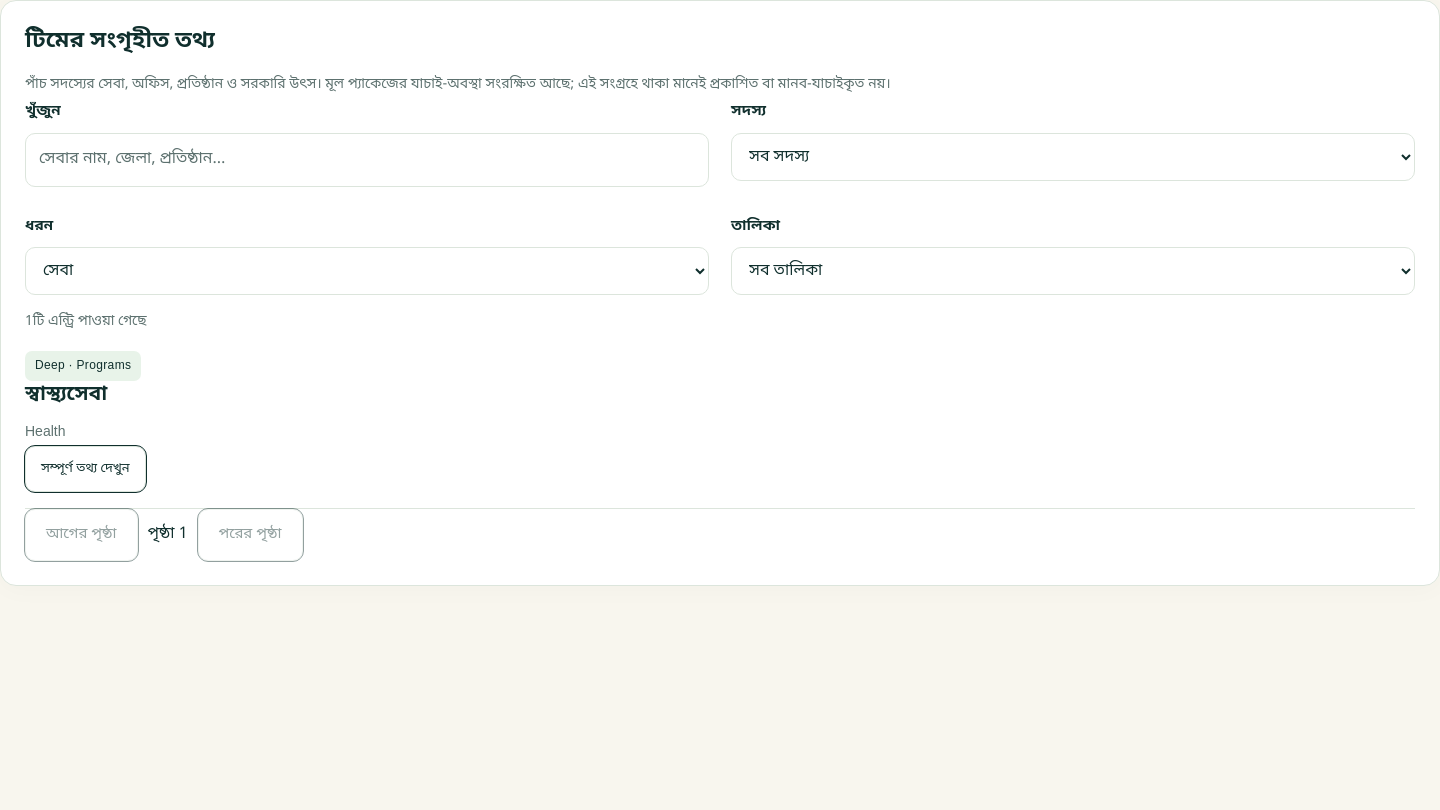
Test: searches uploaded research and preserves verification labels
The image size is (1440, 810).
Expected: the heading "স্বাস্থ্যসেবা" is shown, [25,382,107,408]
Step 1. Type "ঢাকা" into the field labelled "খুঁজুন" → (367, 160), box [25,133,709,187]
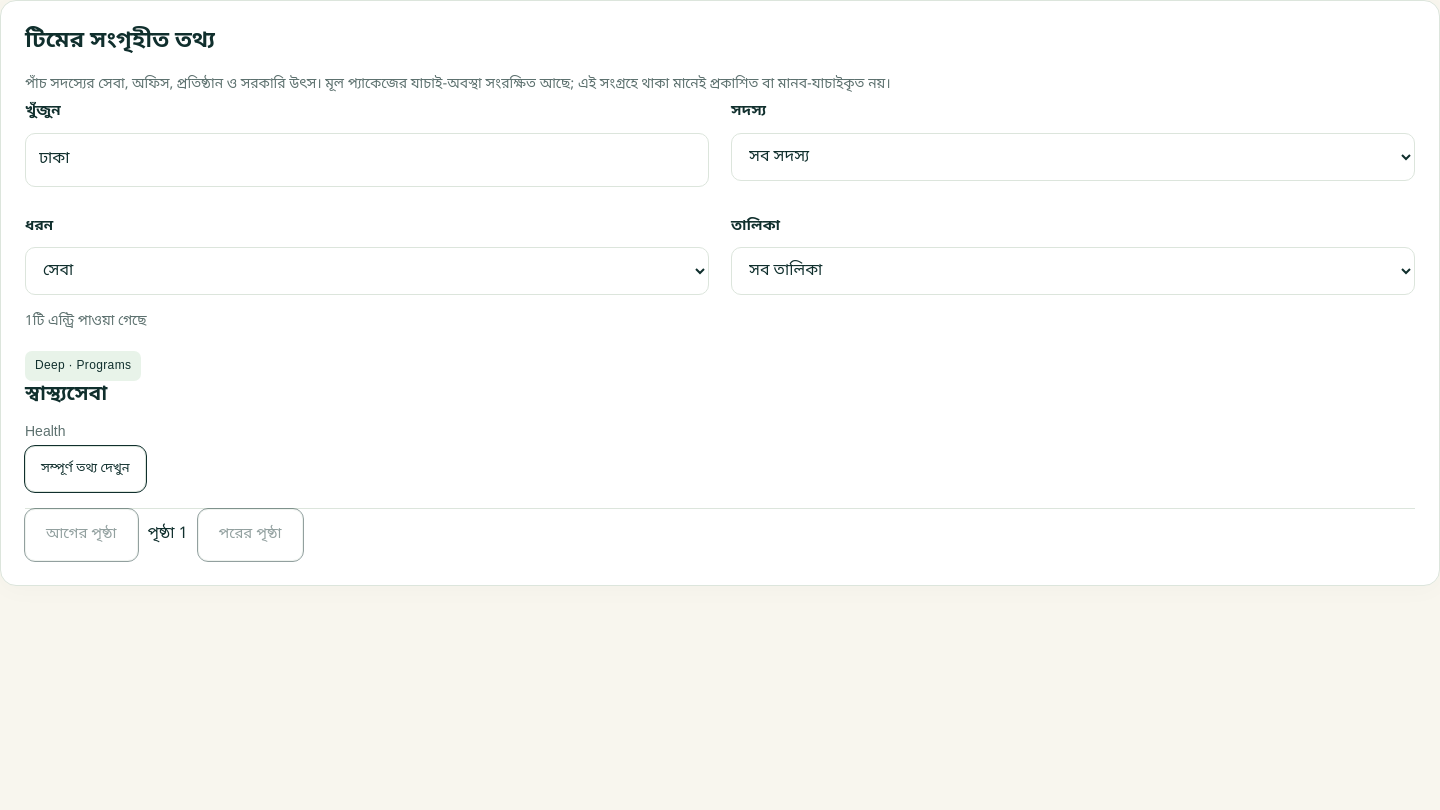
Step 2. Click the button "সম্পূর্ণ তথ্য দেখুন" → click(85, 469), box [25,446,146,492]
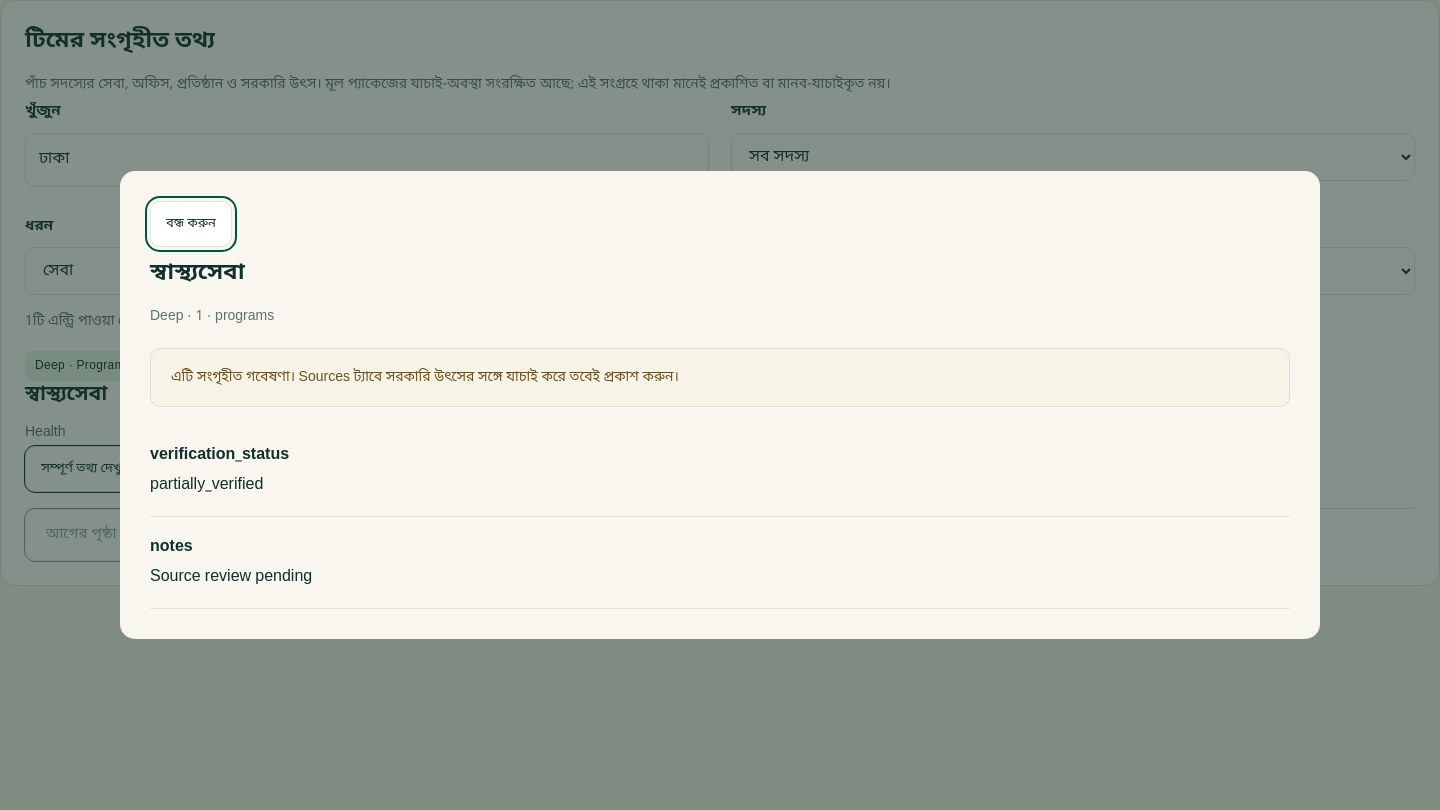
Result: the text "partially_verified" is shown at [150,474,263,496]
Result: the text "Source review pending" is shown at [150,566,312,588]
